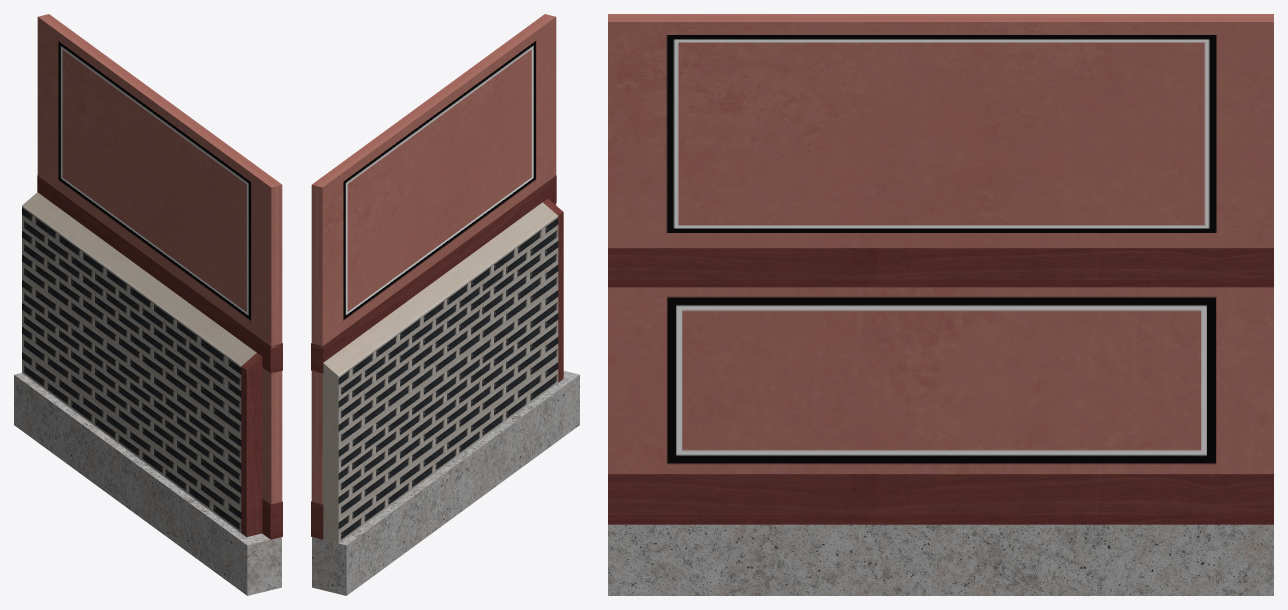
Rendered from SM_Wall07B.fbx.
The picture shows the model from 3 angles, left to right: view 1: azimuth 30°, elevation 25°; view 2: azimuth 150°, elevation 25°; view 3: azimuth 270°, elevation 25°; orthographic projection. The views are drawn at different scales.
Visible parts, largest first — view 1: SM_Wall07B; view 2: SM_Wall07B; view 3: SM_Wall07B.
Part boxes in pixels (bbox=[...]): SM_Wall07B: bbox=[14, 14, 282, 595]; SM_Wall07B: bbox=[311, 14, 579, 595]; SM_Wall07B: bbox=[608, 14, 1273, 595].
Size of the model in its own units: 26.42 by 302 by 287.
